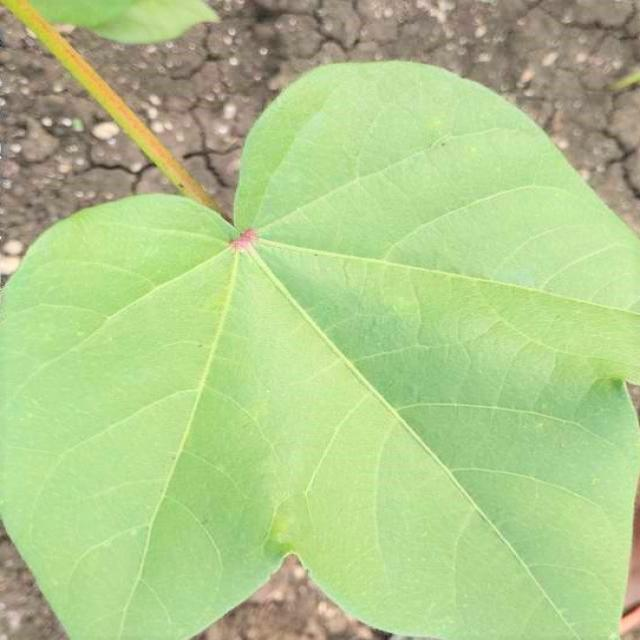Healthy Leaf: (131, 240, 560, 537)
